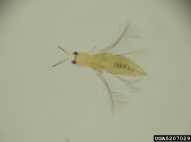Thrips: (52, 23, 158, 113)
